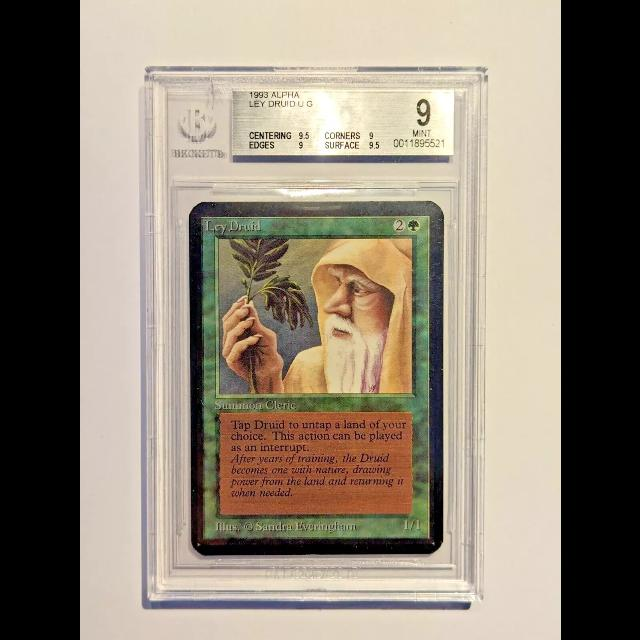bgs_label: (230, 88, 454, 156)
bgs_slab: (143, 66, 487, 603)
card: (188, 201, 444, 556)
